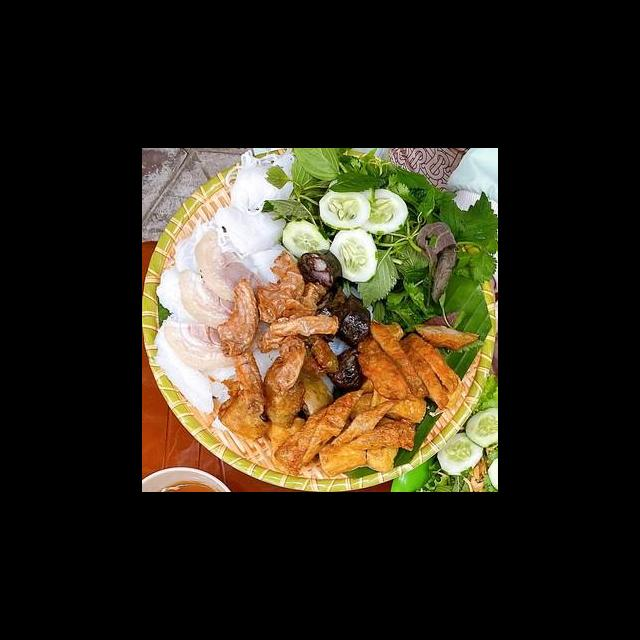bun: (211, 149, 303, 284), (150, 326, 233, 420)
bun dau: (152, 174, 491, 490)
cha com: (353, 316, 484, 412)
cha gio: (258, 353, 308, 430), (215, 384, 271, 441)
dau hu: (318, 439, 405, 479), (371, 385, 433, 427)
doi sun: (317, 284, 376, 350), (293, 249, 348, 298), (325, 340, 367, 395)
thit heo: (187, 224, 269, 308), (171, 264, 238, 334), (162, 315, 239, 373)
